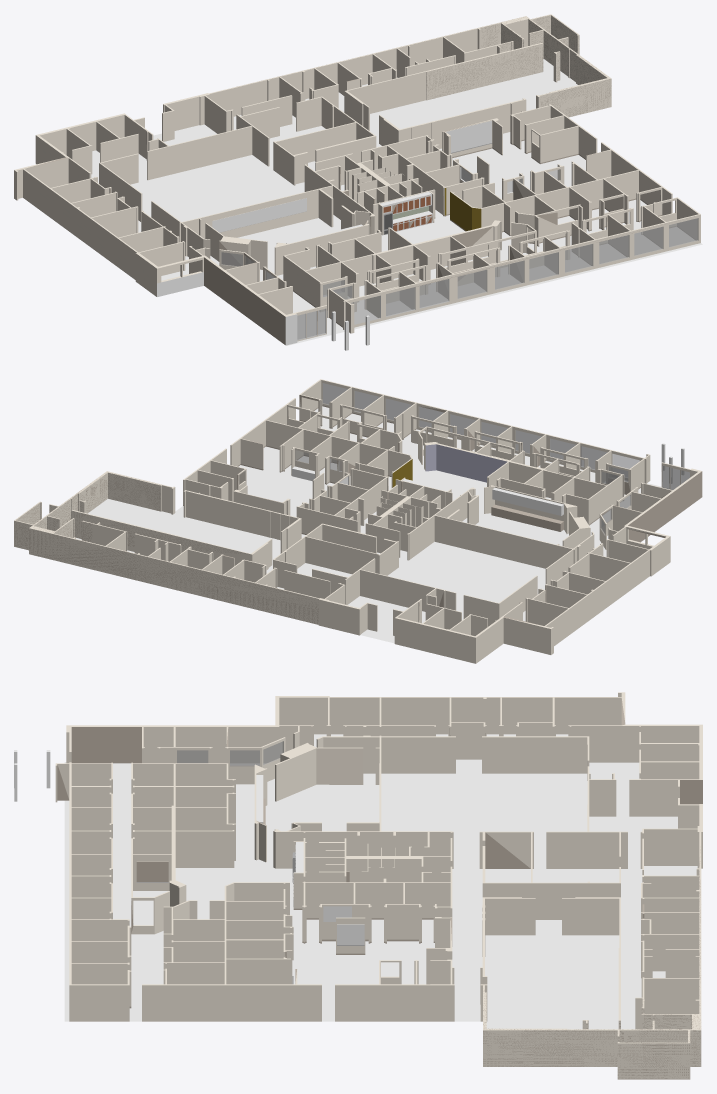
Rendered from willowgarage.glb.
3 views of the same model, one above another, from view 1: azimuth 30°, elevation 25°; view 2: azimuth 150°, elevation 25°; view 3: azimuth 270°, elevation 25° (orthographic). The views are drawn at different scales.
Parts seen in each view (by area): view 1: SketchUp, instance_0.021, instance_0.006, instance_0.041, instance_0.052, instance_0.038, instance_0.005, instance_0.032, instance_0.004, instance_0.002, instance_0.036, instance_0.053 (+29 smaller); view 2: SketchUp, instance_0.006, instance_0.021, instance_0.041, instance_0.052, instance_0.032, instance_0.038, instance_0.004, instance_0.036, instance_0.020, instance_0.002, instance_0.023 (+12 smaller); view 3: SketchUp, instance_0.021, instance_0.006, instance_0.052, instance_0.041, instance_0.038, instance_0.036, instance_0.032, instance_0.053, instance_0.023, instance_0.004, instance_0.002 (+9 smaller).
Boxes of the visible parts, x1=… form: SketchUp: x1=91, y1=59, x2=702, y2=345; instance_0.021: x1=14, y1=113, x2=326, y2=341; instance_0.006: x1=162, y1=14, x2=611, y2=141; instance_0.041: x1=327, y1=197, x2=700, y2=333; instance_0.052: x1=450, y1=142, x2=672, y2=245; instance_0.038: x1=283, y1=220, x2=536, y2=311; instance_0.005: x1=344, y1=43, x2=543, y2=130; instance_0.032: x1=151, y1=164, x2=374, y2=256; instance_0.004: x1=273, y1=96, x2=376, y2=185; instance_0.002: x1=147, y1=107, x2=279, y2=180; instance_0.036: x1=361, y1=135, x2=484, y2=215; instance_0.053: x1=510, y1=104, x2=597, y2=162; SketchUp: x1=76, y1=406, x2=702, y2=643; instance_0.006: x1=14, y1=471, x2=377, y2=635; instance_0.021: x1=393, y1=462, x2=701, y2=663; instance_0.041: x1=299, y1=379, x2=650, y2=494; instance_0.052: x1=230, y1=398, x2=412, y2=487; instance_0.032: x1=407, y1=487, x2=594, y2=585; instance_0.038: x1=418, y1=426, x2=624, y2=524; instance_0.004: x1=273, y1=523, x2=398, y2=588; instance_0.036: x1=296, y1=468, x2=388, y2=534; instance_0.020: x1=183, y1=490, x2=301, y2=553; instance_0.002: x1=312, y1=558, x2=456, y2=620; instance_0.023: x1=365, y1=477, x2=452, y2=557; SketchUp: x1=64, y1=734, x2=697, y2=1029; instance_0.021: x1=66, y1=692, x2=702, y2=816; instance_0.006: x1=480, y1=798, x2=702, y2=1079; instance_0.052: x1=142, y1=882, x2=321, y2=1021; instance_0.041: x1=55, y1=762, x2=131, y2=1021; instance_0.038: x1=131, y1=762, x2=235, y2=934; instance_0.036: x1=302, y1=866, x2=452, y2=942; instance_0.032: x1=273, y1=735, x2=455, y2=868; instance_0.053: x1=335, y1=959, x2=454, y2=1021; instance_0.023: x1=293, y1=838, x2=452, y2=908; instance_0.004: x1=479, y1=831, x2=620, y2=919; instance_0.002: x1=546, y1=766, x2=627, y2=868.
Bounding box in the file's own units: 58.63 × 2.84 × 48.62.
